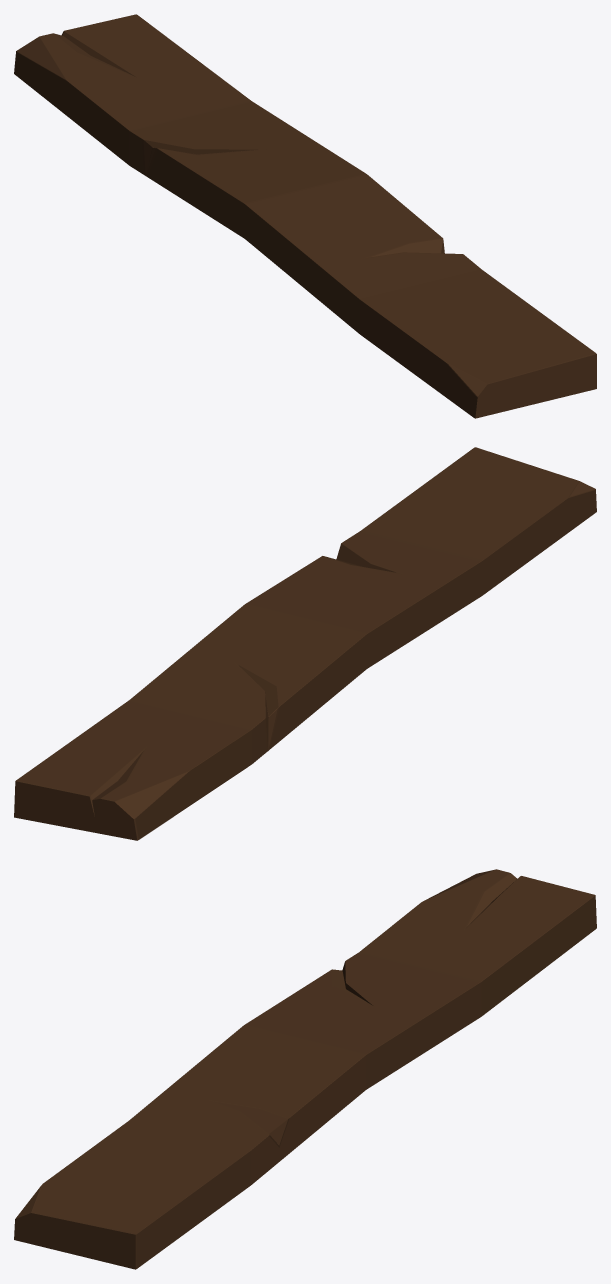
Rendered from Plank 1.fbx.
3 renders of one model, top to bottom at view 1: azimuth 30°, elevation 25°; view 2: azimuth 150°, elevation 25°; view 3: azimuth 330°, elevation 25°, orthographic.
Parts seen in each view (by area): view 1: Plank .001; view 2: Plank .001; view 3: Plank .001.
Part boxes in pixels (x1=…): Plank .001: x1=14, y1=14, x2=596, y2=418; Plank .001: x1=14, y1=447, x2=596, y2=840; Plank .001: x1=14, y1=869, x2=596, y2=1269.
Size of the model in its own units: 13.81 by 4.97 by 90.02.
